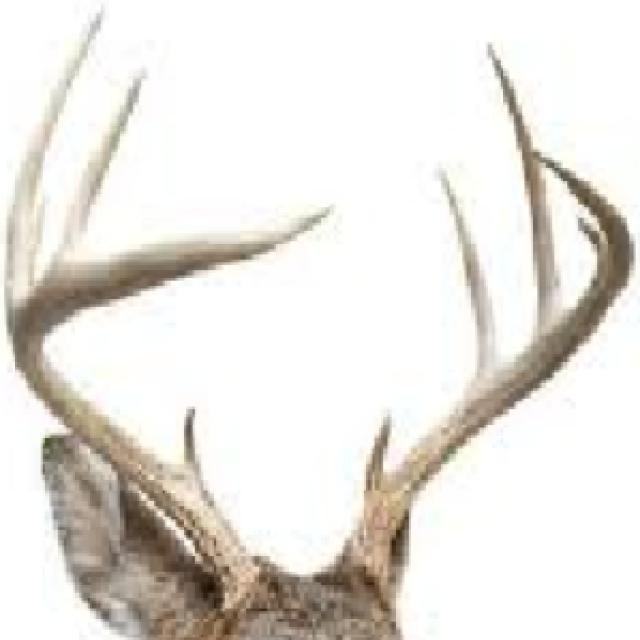L-F: (321, 149, 637, 629)
L-G1: (365, 408, 393, 493)
L-G2: (440, 170, 498, 382)
R-F: (12, 202, 335, 608)
